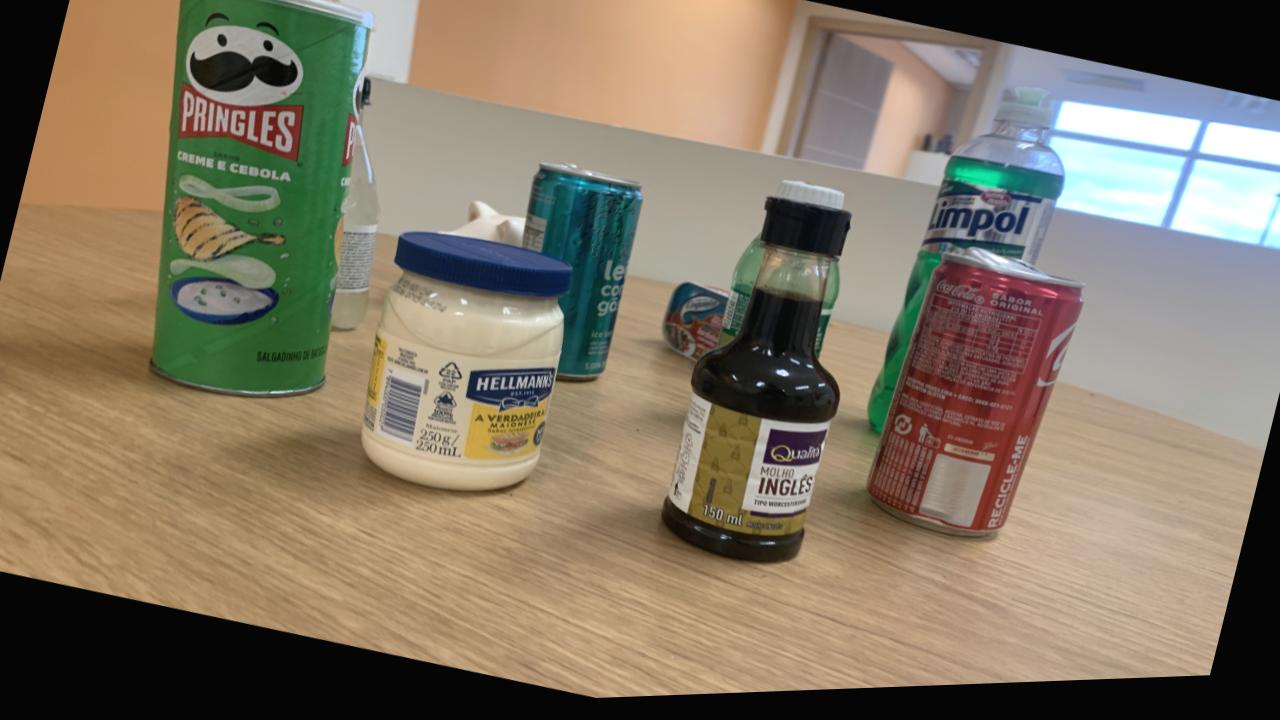Coke-Drinks: (868, 262, 1083, 545)
Detergent-Cleanup_Items: (867, 94, 1065, 439)
English_Sauce-Pantry_Items: (662, 202, 850, 569)
Guarana-Drinks: (717, 244, 765, 352), (814, 266, 840, 361), (777, 186, 845, 216)
Mayonnaise-Pantry_Items: (361, 235, 572, 495)
Pig_Safe-Miscellaneous: (441, 205, 526, 251)
Pringles-Snacks: (151, 0, 372, 399)
Soda-Drinks: (331, 80, 380, 333)
Tea-Drinks: (522, 167, 643, 385)
Tuna_Can-Pantry_Items: (661, 287, 730, 365)
